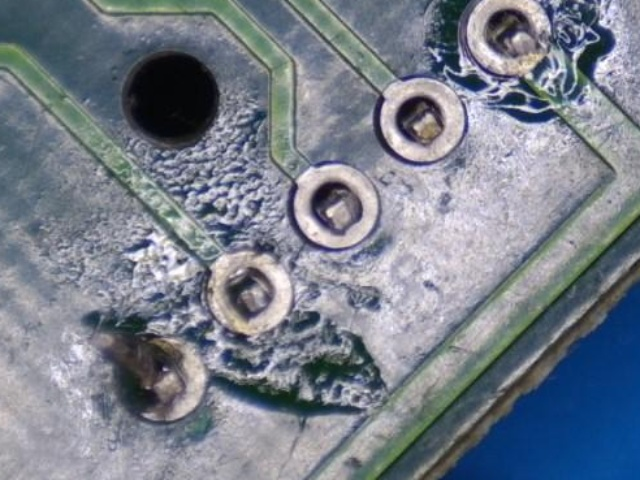pcb_defect: (121, 337, 207, 422), (207, 252, 292, 333)
